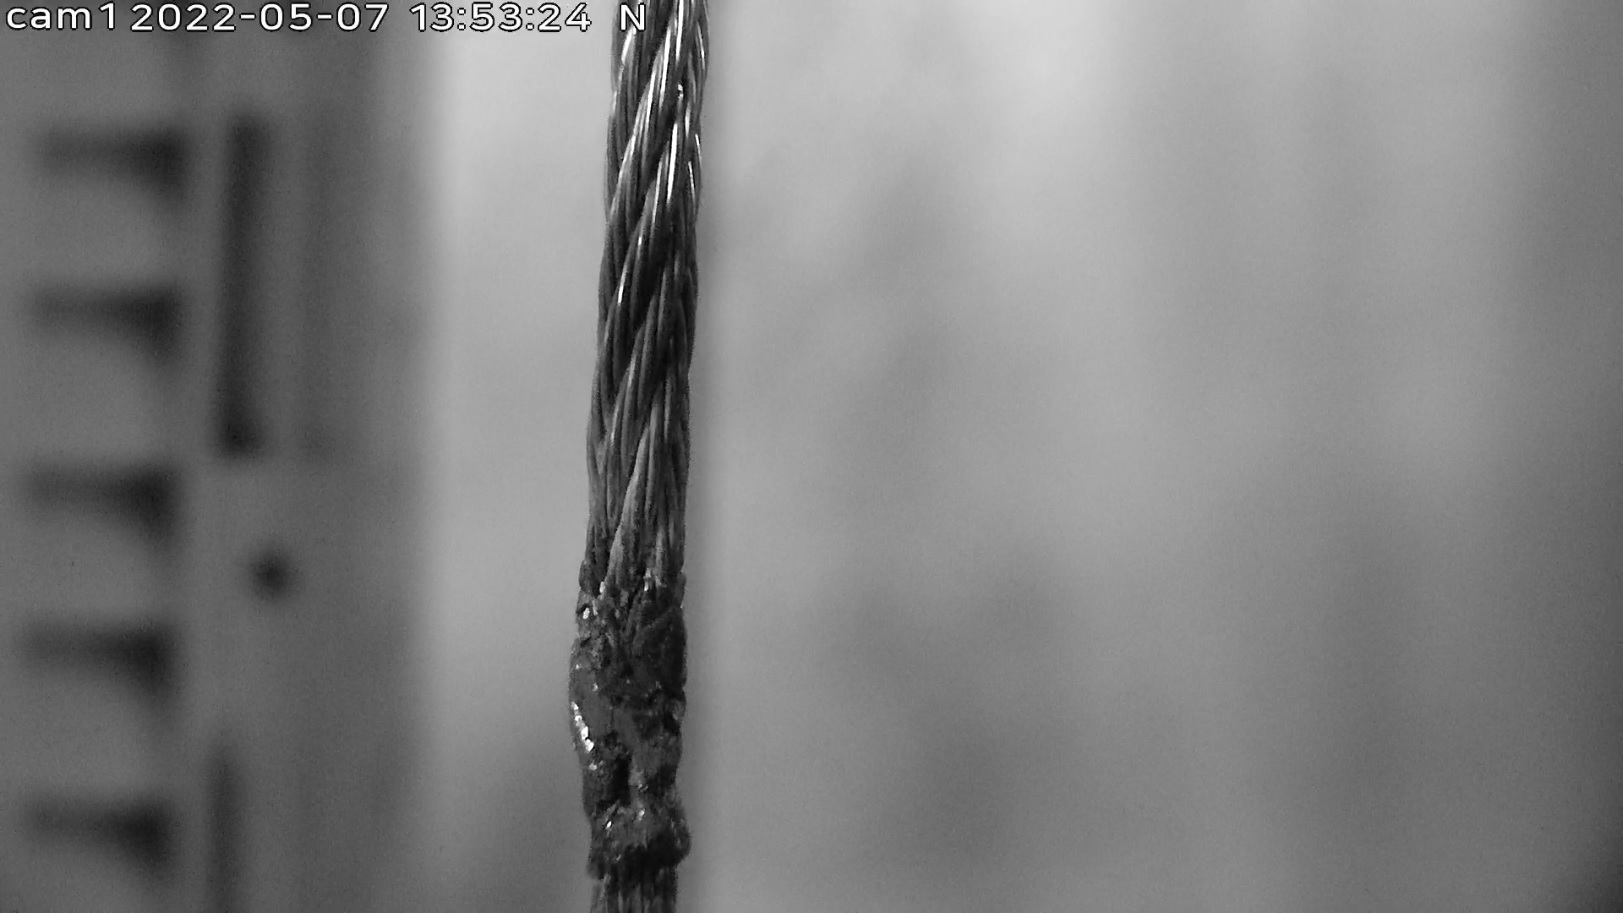spike: (562, 556, 700, 881)
